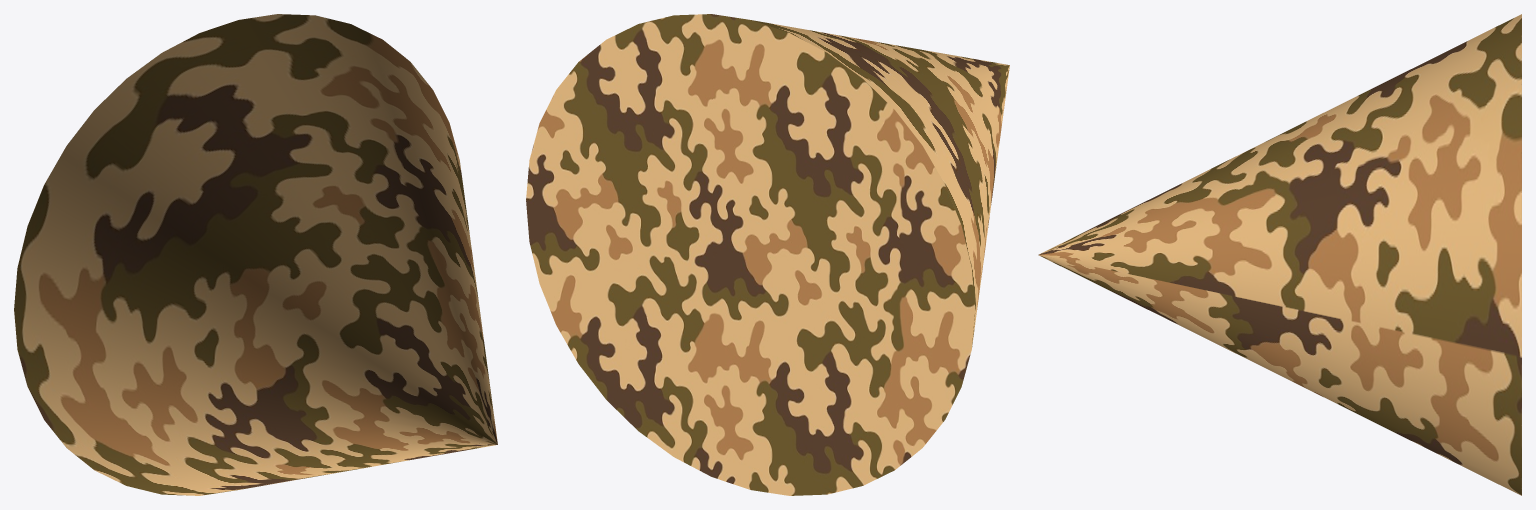
File: zylinder.obj
3 renders of one model, left to right at view 1: azimuth 30°, elevation 25°; view 2: azimuth 150°, elevation 25°; view 3: azimuth 270°, elevation 25°, orthographic. The views are drawn at different scales.
Visible parts, largest first — view 1: Kegel; view 2: Kegel; view 3: Kegel.
Boxes of the visible parts, x1,y1,x2,y2 form: Kegel: (14, 14, 497, 495); Kegel: (526, 14, 1009, 495); Kegel: (1038, 14, 1521, 495).
Size of the model in its own units: 12 by 12 by 12.
1 material, 1 textured.
